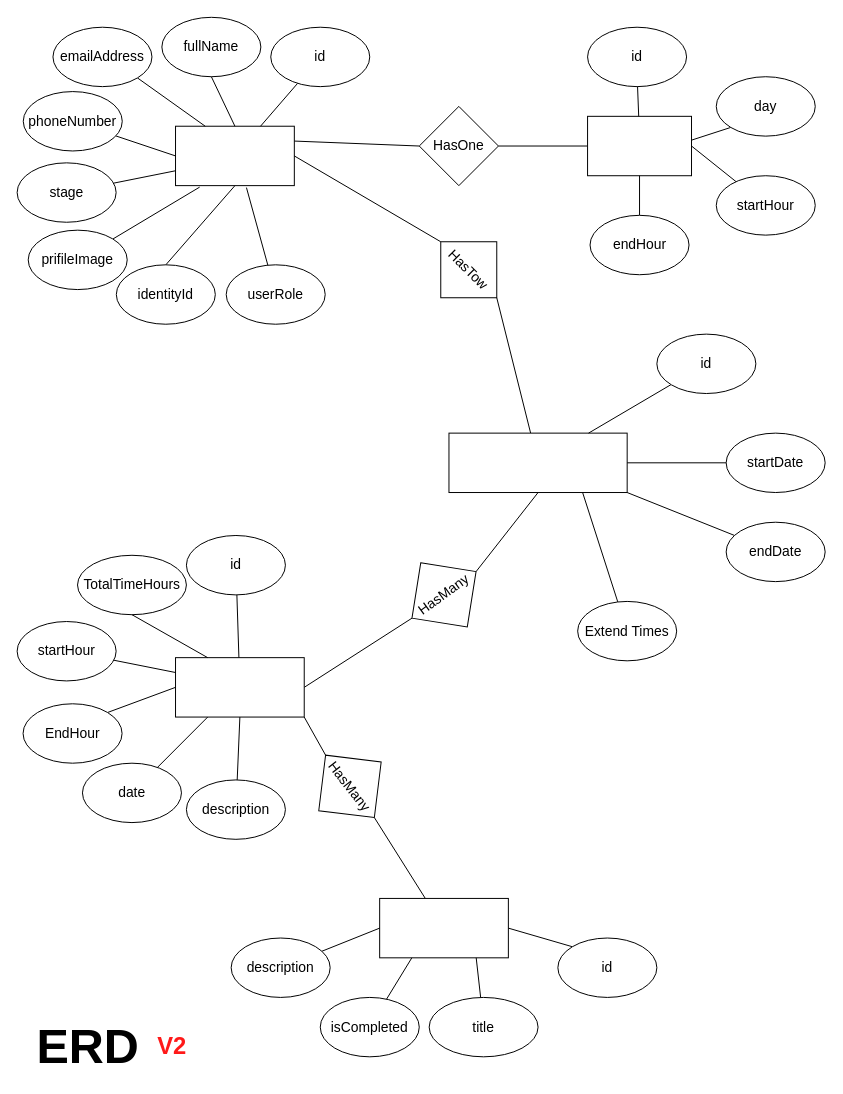
Some shapes in this 843 by 1094 pixel diagram are drawn without their labels. Here are the shapes that lost their labels. From the top down, the box of each, then its label:
(175, 125, 294, 186): User Info
(587, 115, 692, 176): DayFree
(448, 432, 627, 493): StudentSupervisor
(175, 657, 304, 717): Meetings
(379, 897, 508, 958): MeetingTasls
